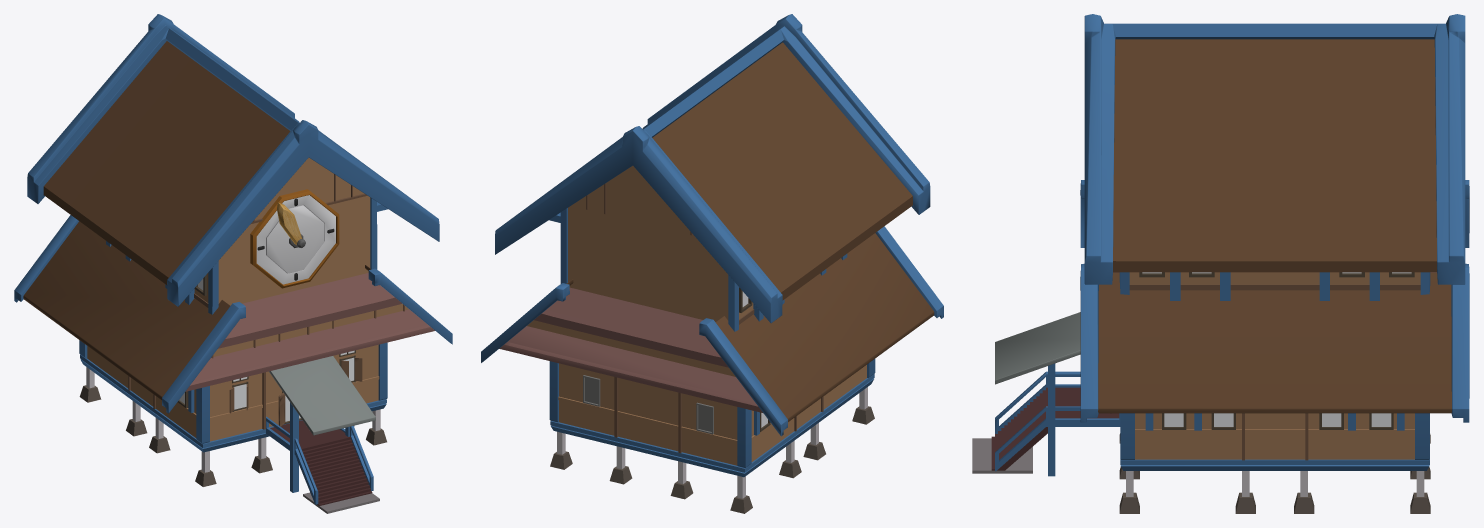
File: malige.glb
3 renders of one model, left to right at view 1: azimuth 30°, elevation 25°; view 2: azimuth 150°, elevation 25°; view 3: azimuth 270°, elevation 25°, orthographic. The views are drawn at different scales.
Visible parts, largest first — view 1: Object_4, Object_41; view 2: Object_4; view 3: Object_4.
Boxes of the visible parts, x1,y1,x2,y2 form: Object_4: (14,14,452,513); Object_41: (277,202,302,244); Object_4: (481,14,943,513); Object_4: (972,14,1469,513).
Bounding box in the file's own units: 2.61 × 3.09 × 3.14.
Materials: 2 (2 with a texture image).
